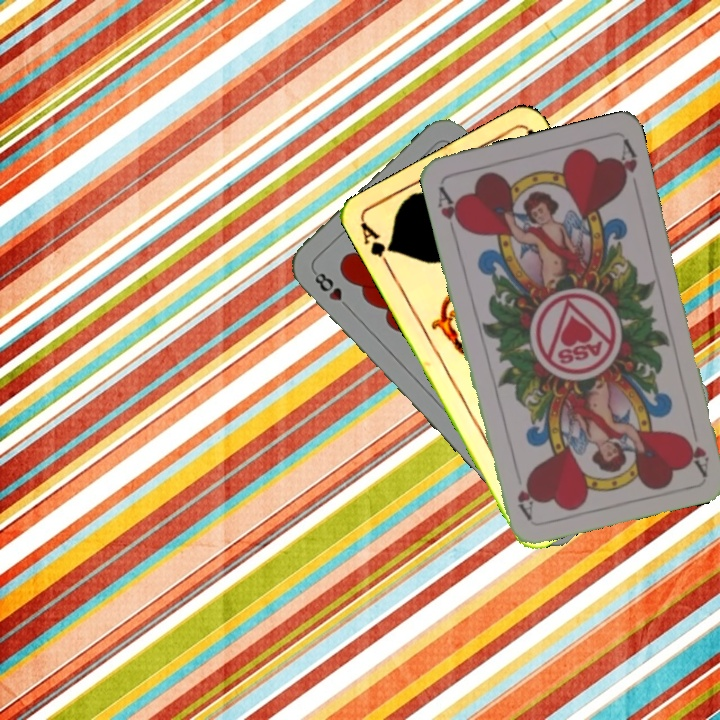GA: (356, 219, 396, 273)
H8: (309, 266, 354, 313)
HA: (433, 182, 467, 239), (681, 418, 712, 477)
